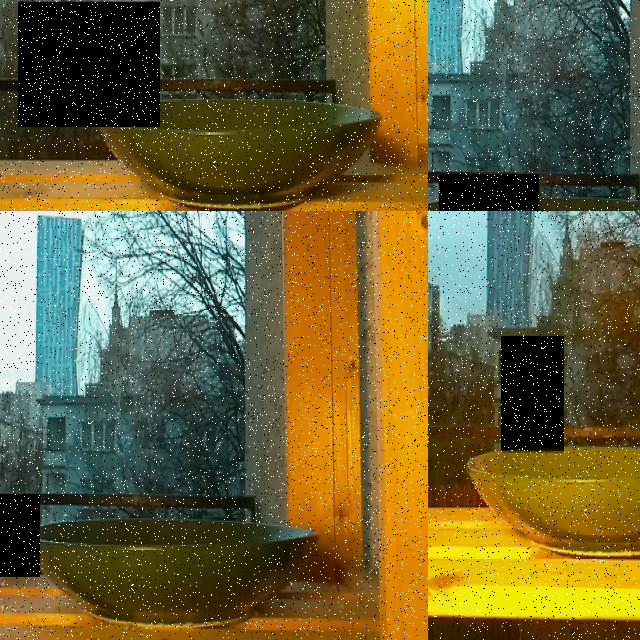Bogatka: (501, 337, 564, 452)
Modraszka: (439, 174, 539, 211), (0, 494, 40, 576)
Wrobel: (18, 2, 160, 127)
